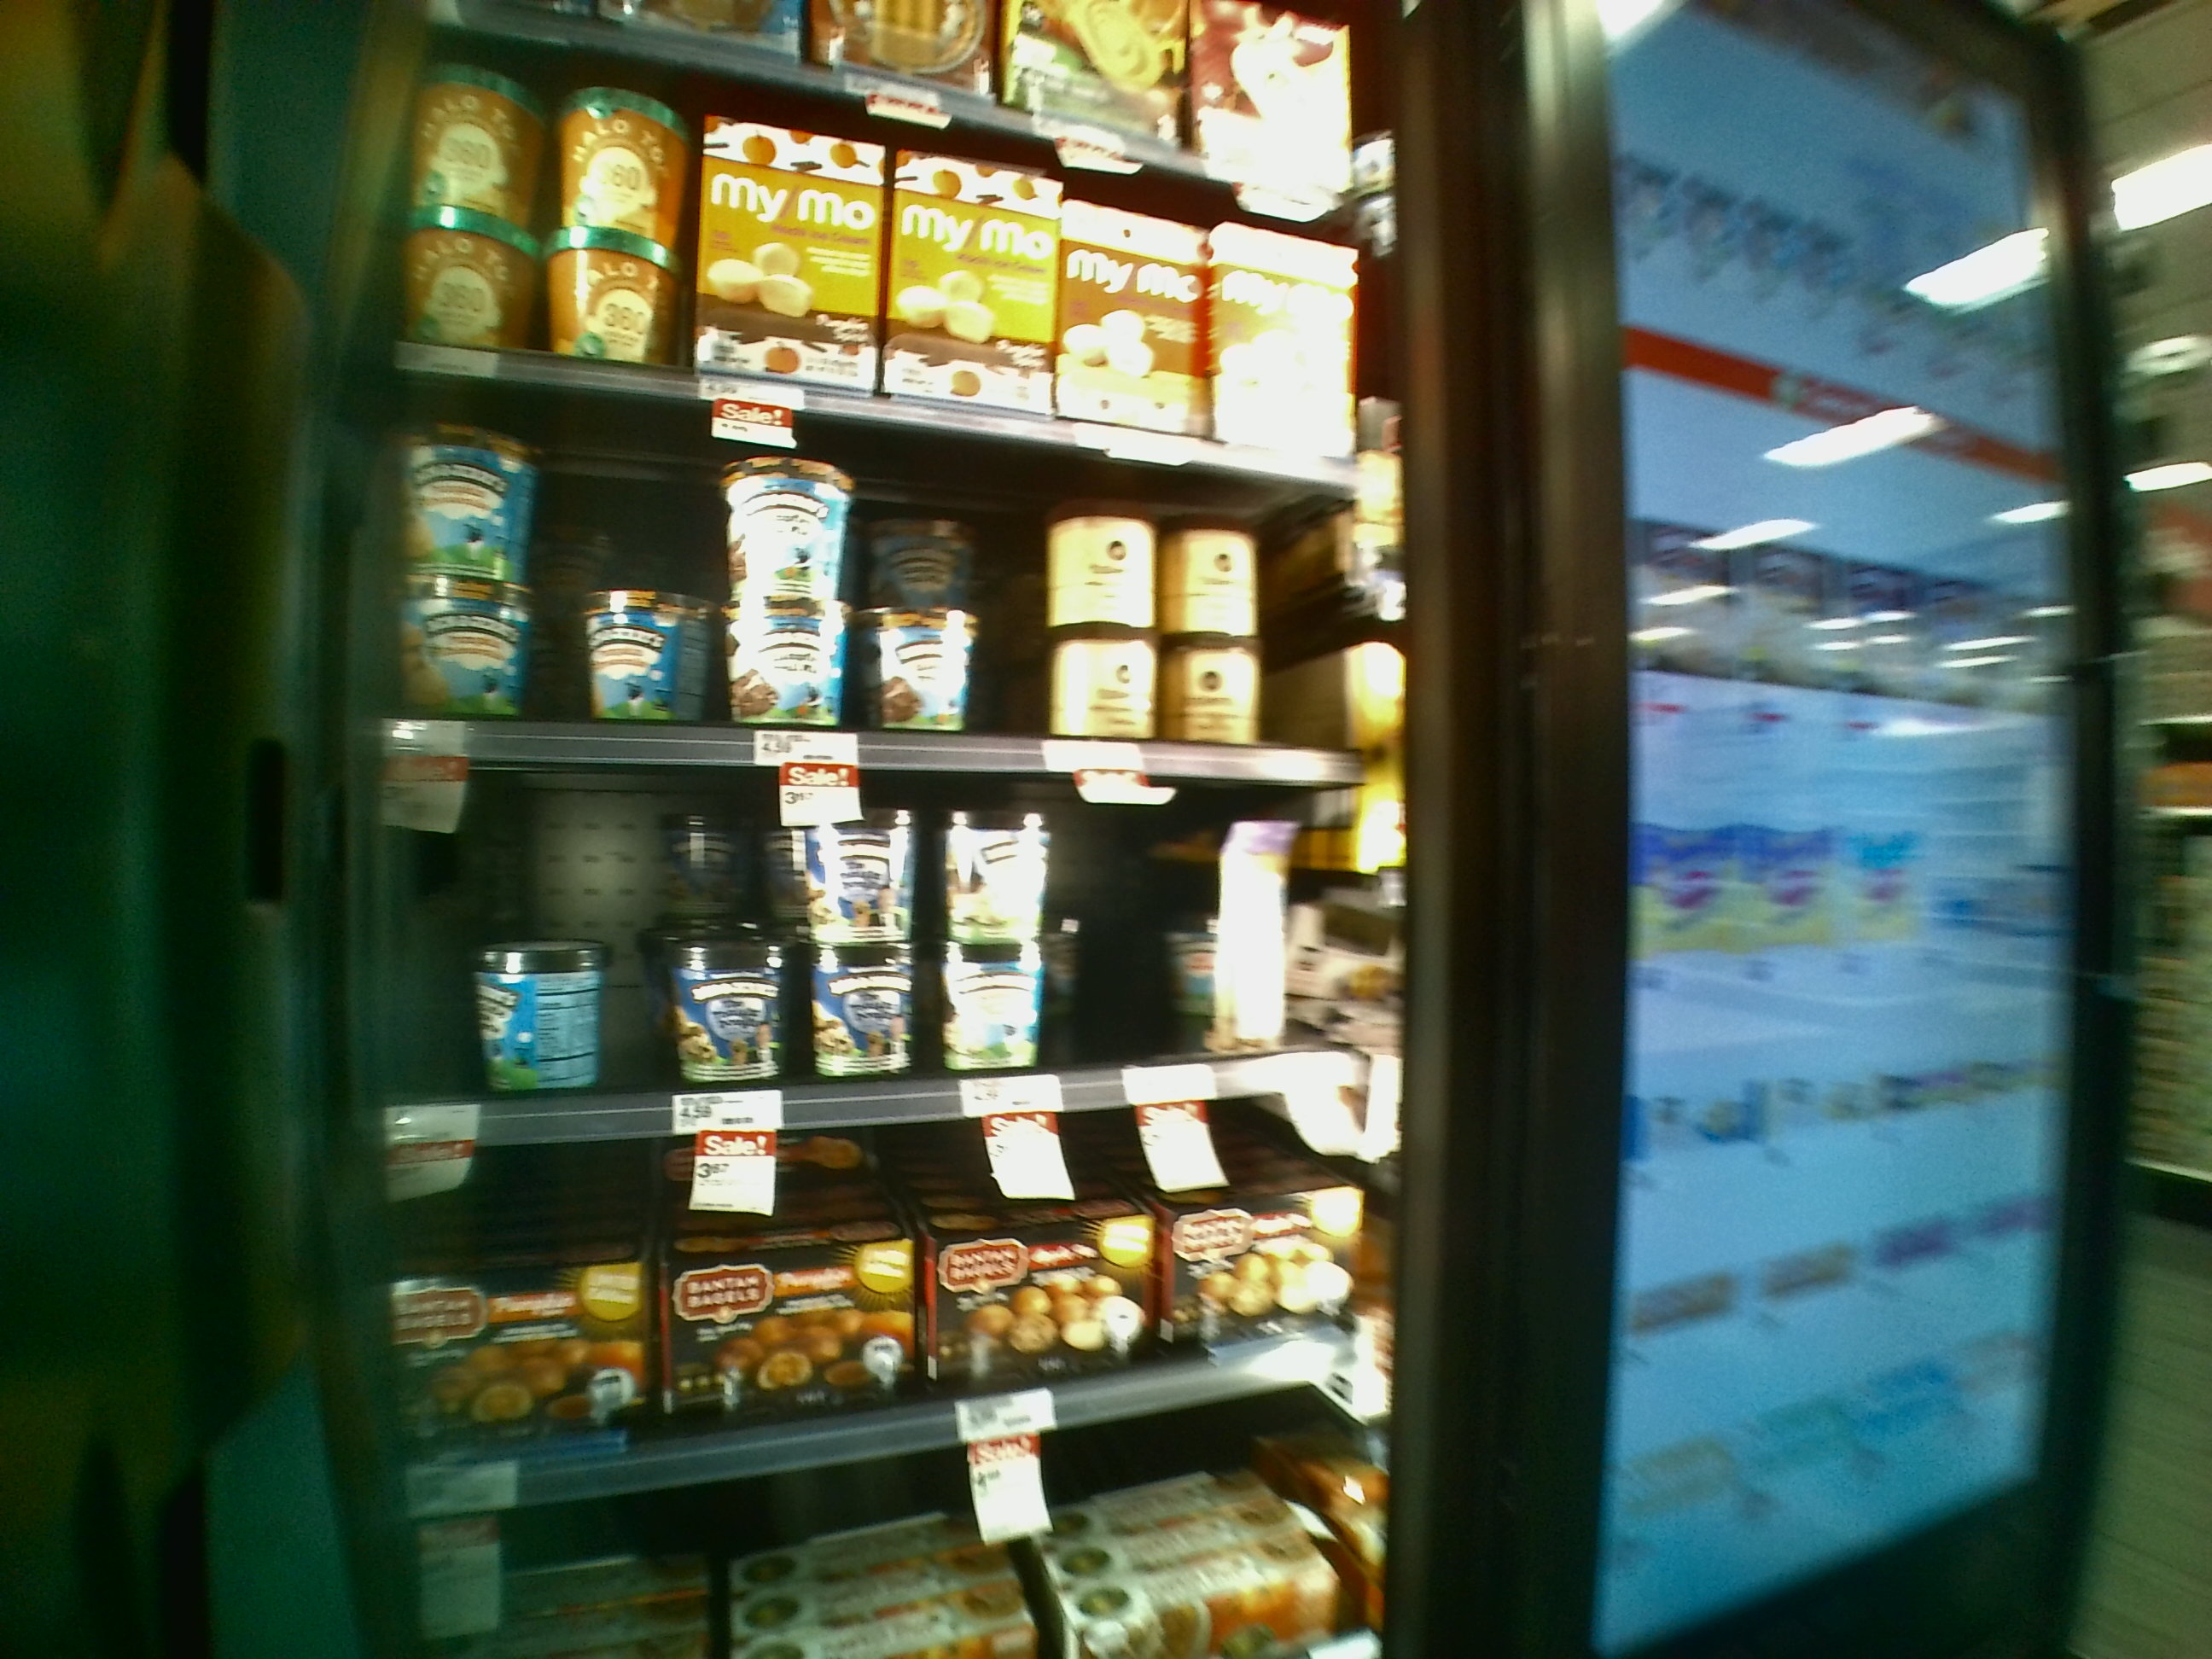shelf: (361, 362, 1406, 781), (319, 730, 1374, 1112), (322, 1110, 1406, 1425)
